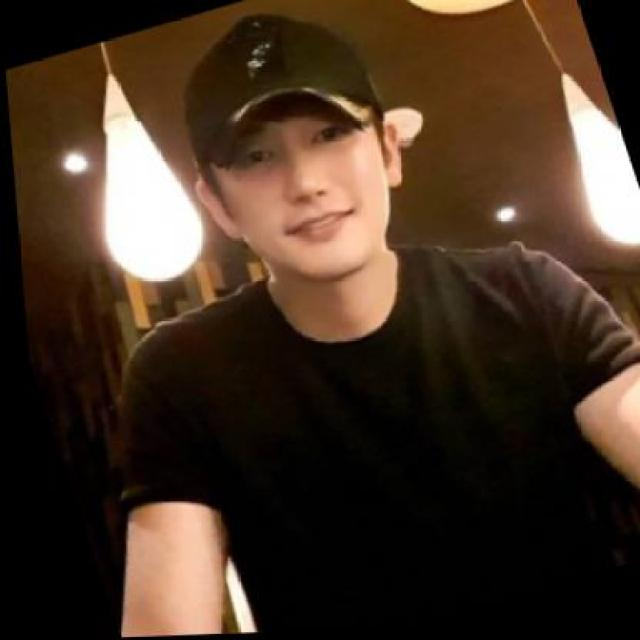hat: (149, 0, 388, 177)
